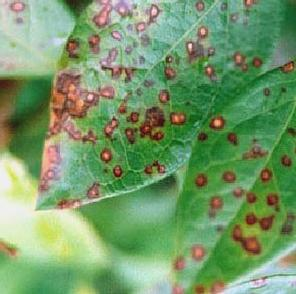Tomato Septoria leaf spot: (31, 0, 289, 216), (162, 27, 296, 294)
